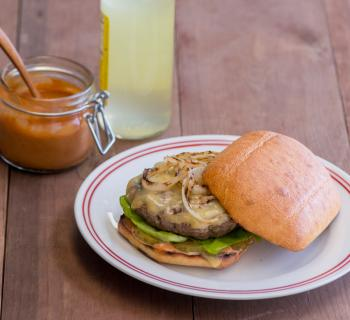hamburger_buns: (204, 134, 332, 244)
